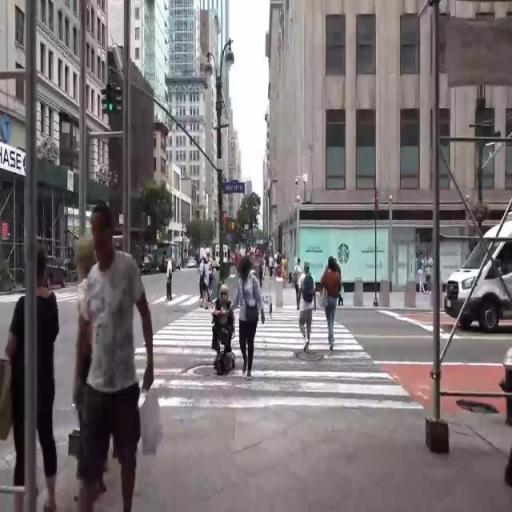person: (82, 212, 141, 512), (6, 238, 58, 512), (236, 265, 260, 382), (298, 262, 316, 357), (216, 289, 238, 359), (324, 256, 340, 341), (199, 260, 210, 313), (166, 254, 174, 308), (427, 252, 436, 295), (416, 252, 424, 300), (283, 252, 290, 293), (256, 246, 263, 283), (207, 252, 216, 277), (275, 247, 281, 281), (268, 255, 275, 280), (295, 256, 302, 279)
